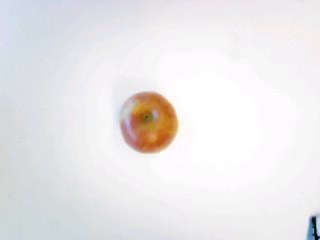apple: (117, 91, 176, 154)
